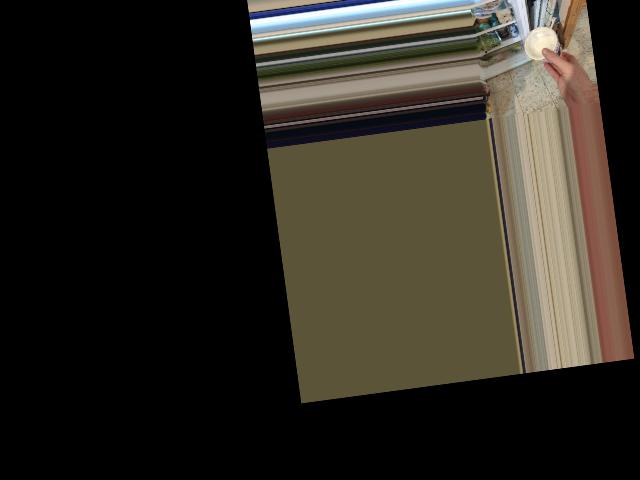cotage: (521, 22, 569, 69)
